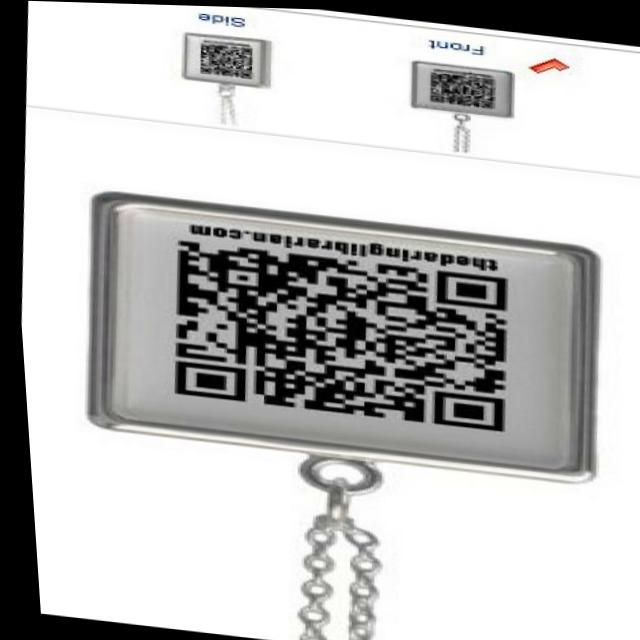qrcode: (163, 238, 511, 429), (430, 70, 496, 105), (201, 43, 253, 77)
